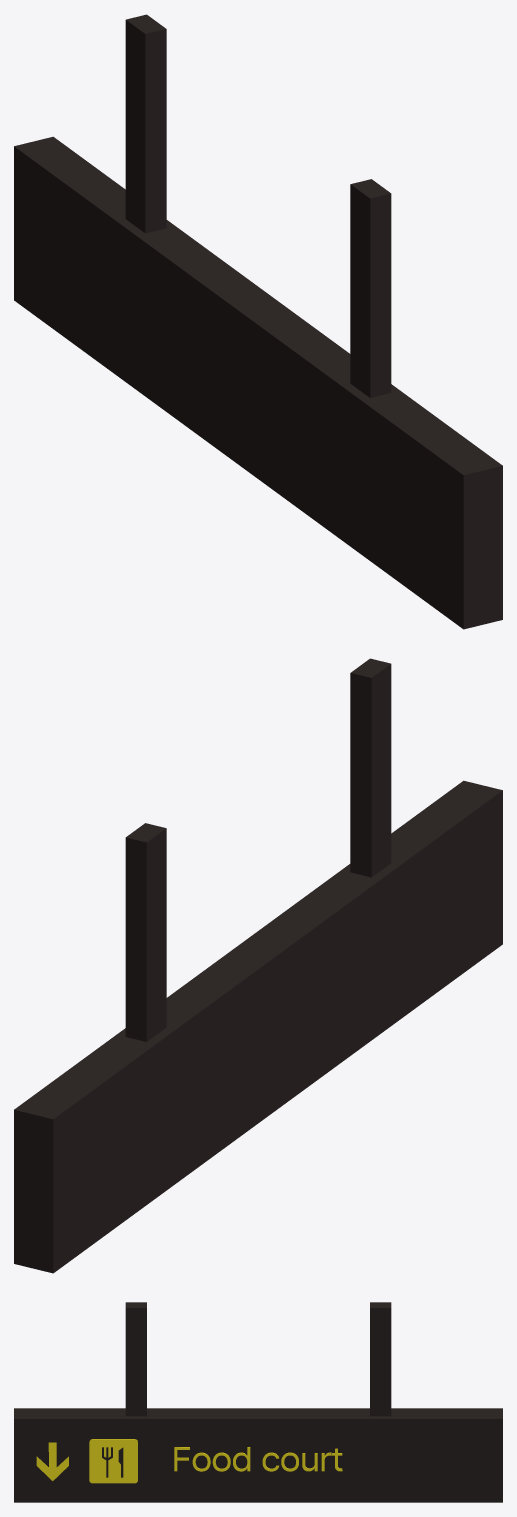
The model's file is food court sign.fbx.
3 views of the same model, one above another, from view 1: azimuth 30°, elevation 25°; view 2: azimuth 150°, elevation 25°; view 3: azimuth 270°, elevation 25° (orthographic). The views are drawn at different scales.
Parts seen in each view (by area): view 1: Cube.006; view 2: Cube.006; view 3: Cube.006, Square.004, Security control.004, arrow.005, BézierCurve.005.
Boxes of the visible parts, box(x1,y1,x2,y2) form: Cube.006: box(14, 14, 502, 629); Cube.006: box(14, 658, 502, 1273); Cube.006: box(14, 1302, 502, 1502); Square.004: box(89, 1439, 137, 1483); Security control.004: box(174, 1447, 342, 1471); arrow.005: box(36, 1442, 68, 1480); BézierCurve.005: box(102, 1447, 123, 1477).
Size of the model in its own units: 2.47 by 20.19 by 46.55.
